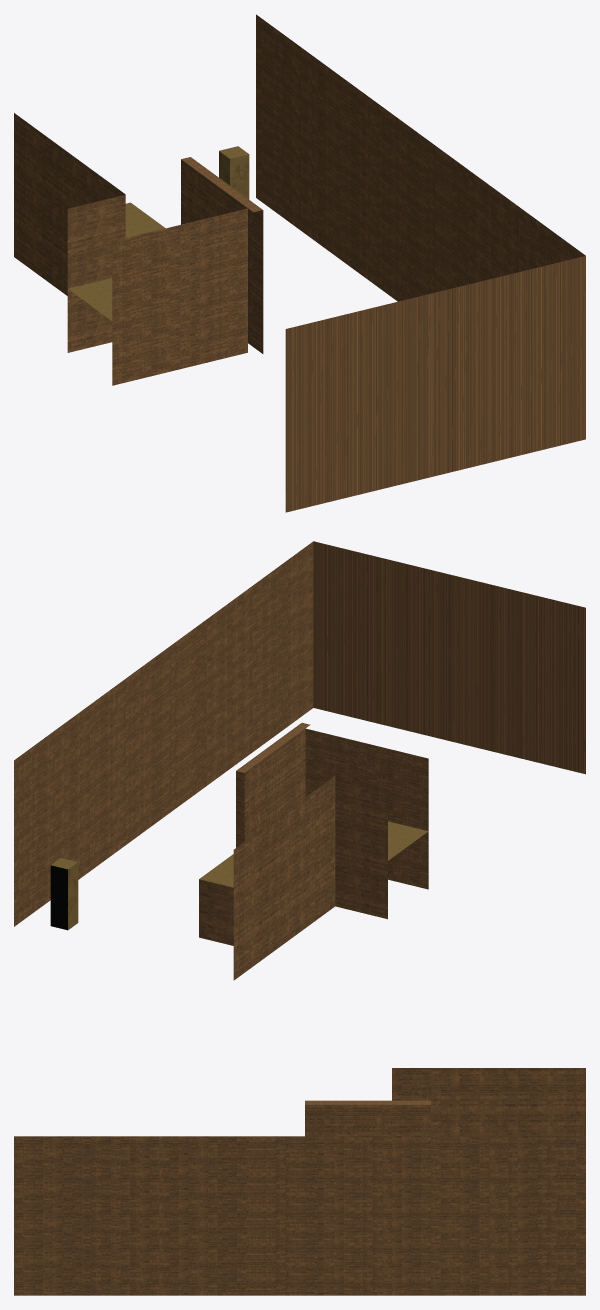
3 renders of one model, top to bottom at view 1: azimuth 30°, elevation 25°; view 2: azimuth 150°, elevation 25°; view 3: azimuth 270°, elevation 25°, orthographic. The views are drawn at different scales.
Parts seen in each view (by area): view 1: map; view 2: map; view 3: map.
Part boxes in pixels (x1,y1,x2,y2): map: [14, 14, 585, 512]; map: [14, 541, 585, 980]; map: [14, 1068, 585, 1295].
Size of the model in its own units: 23.13 by 13.52 by 44.02.
3 materials, 2 textured.
